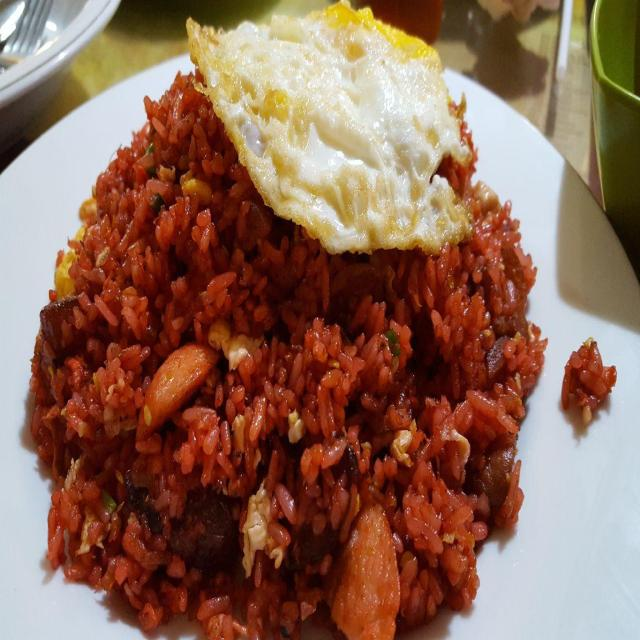Nasi Goreng: (10, 5, 560, 640)
